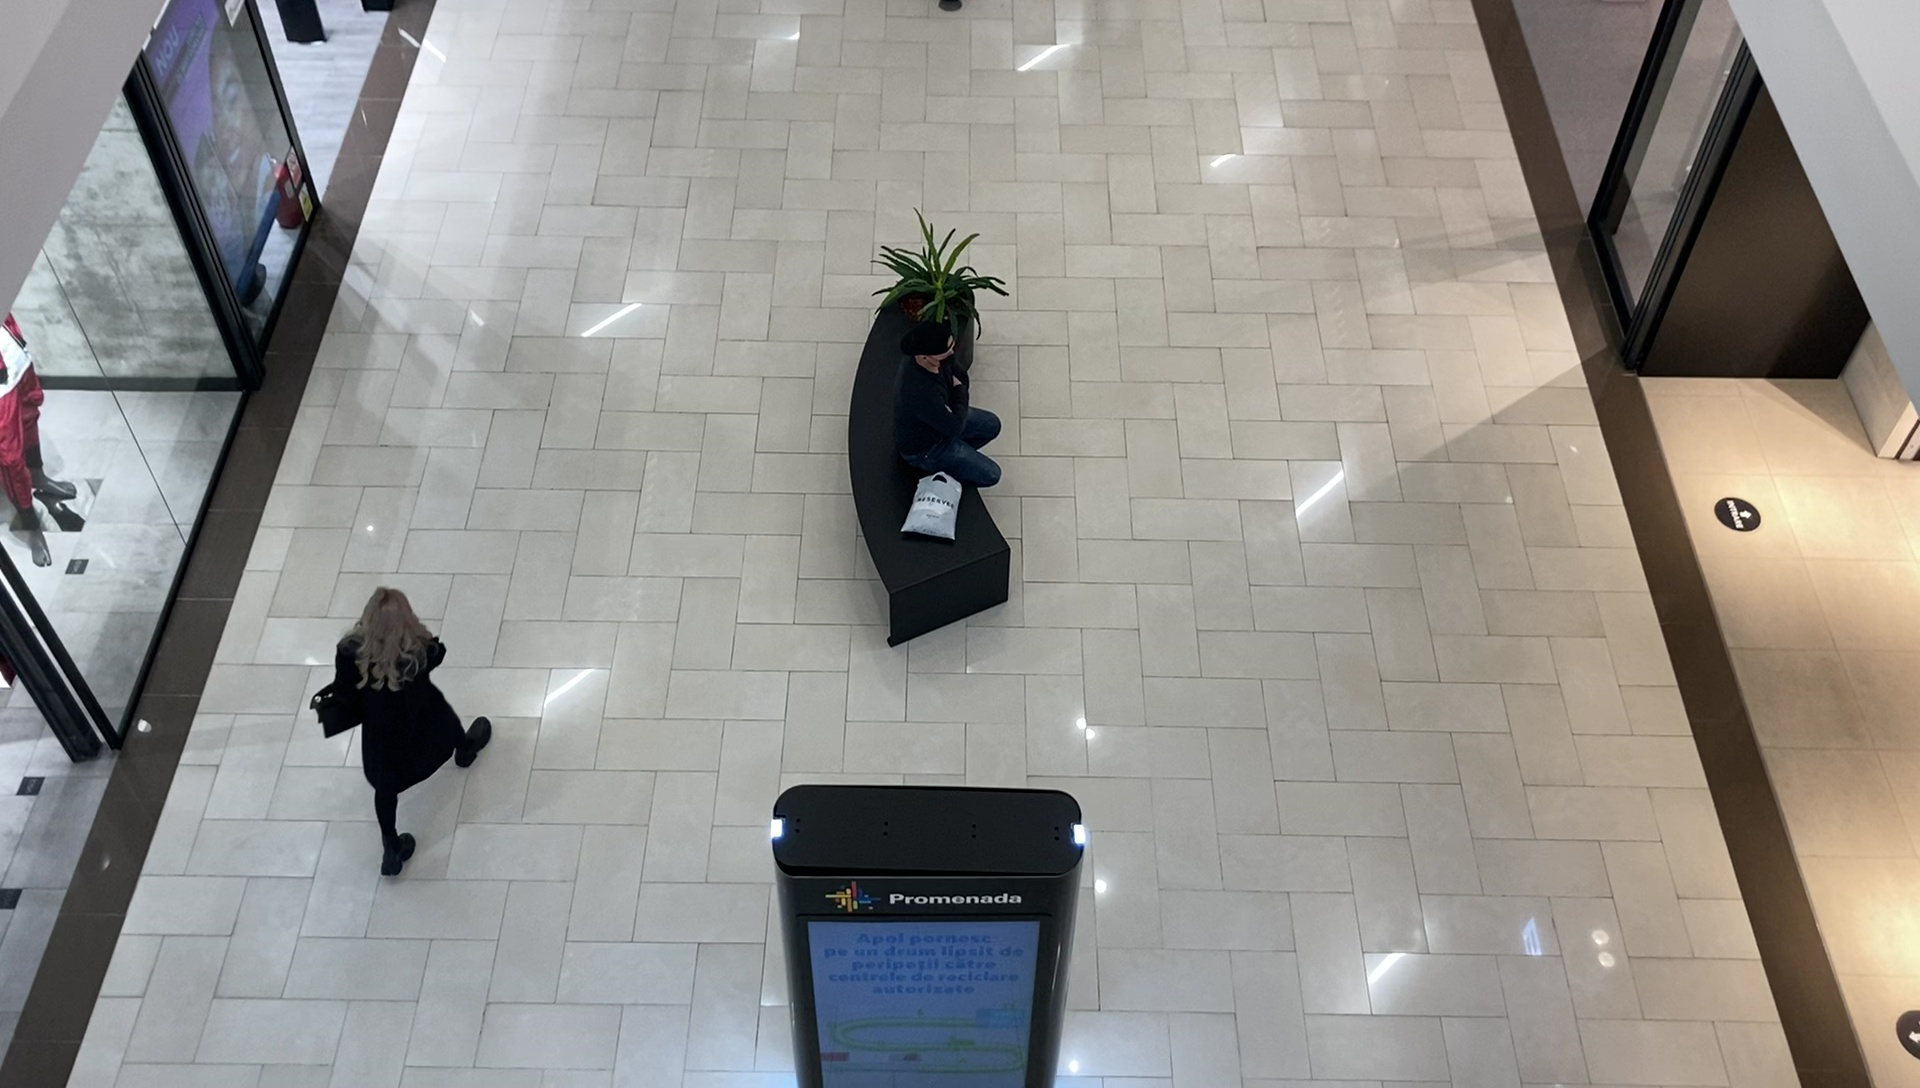person: (313, 584, 492, 884), (896, 324, 1006, 501)
